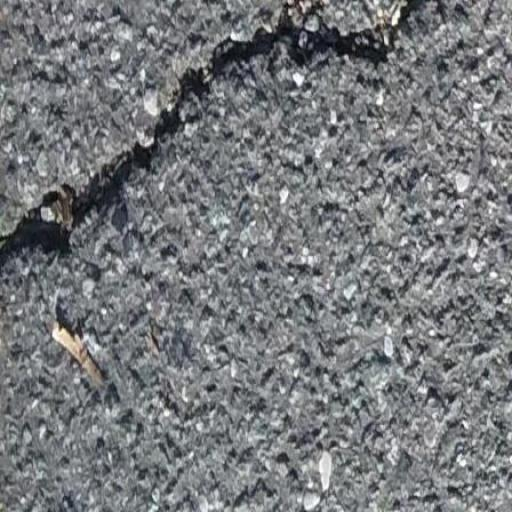spalling: (4, 0, 431, 264)
